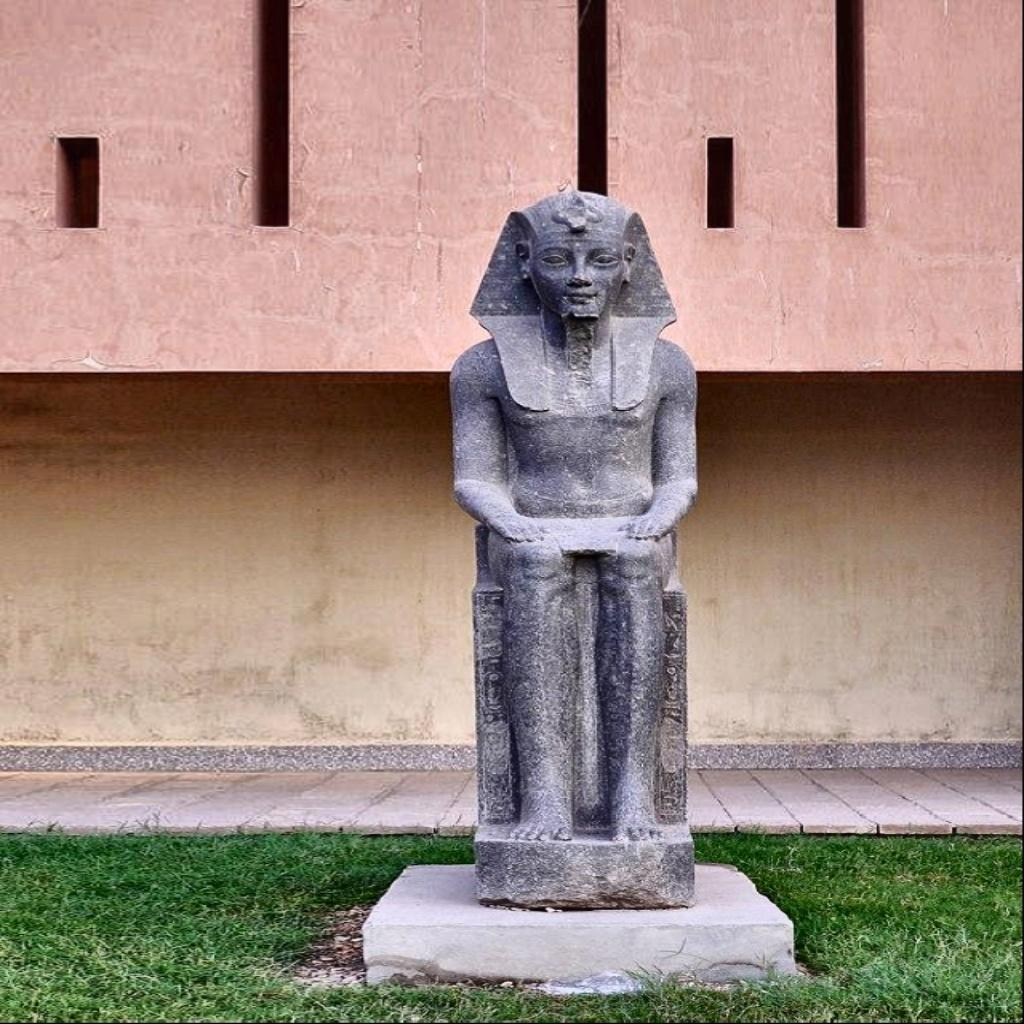Amenhotep III: (443, 184, 704, 910)
